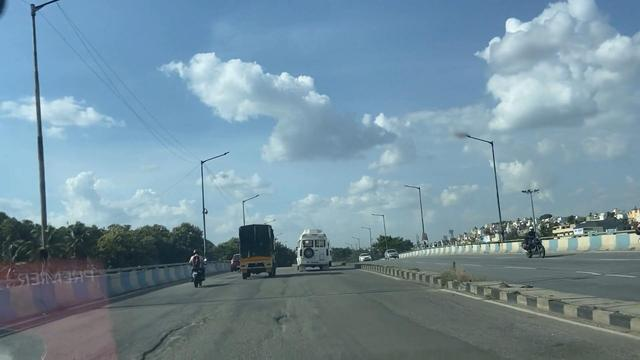HMV: (231, 223, 282, 280), (299, 226, 332, 275)
LMV: (181, 249, 208, 288)
RoadDamages: (359, 300, 468, 360), (135, 309, 218, 360), (263, 298, 328, 353)
